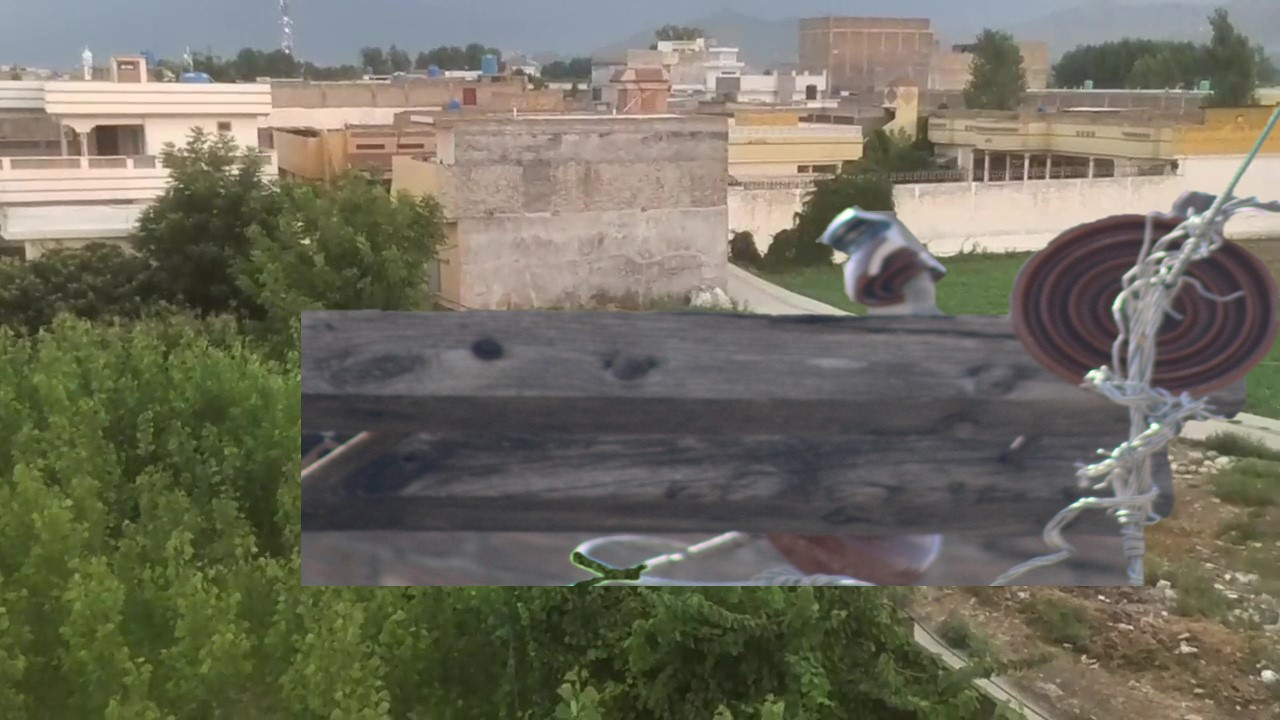defect_pin: (817, 194, 952, 319)
insulator_disc: (1010, 210, 1272, 400)
